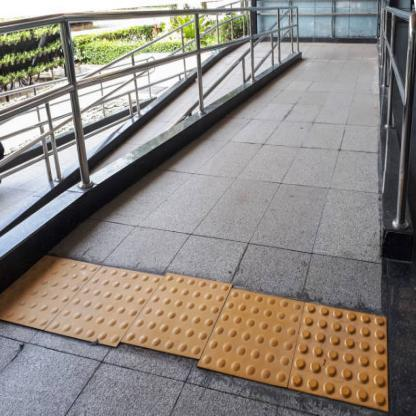podotacti: (3, 251, 388, 409)
